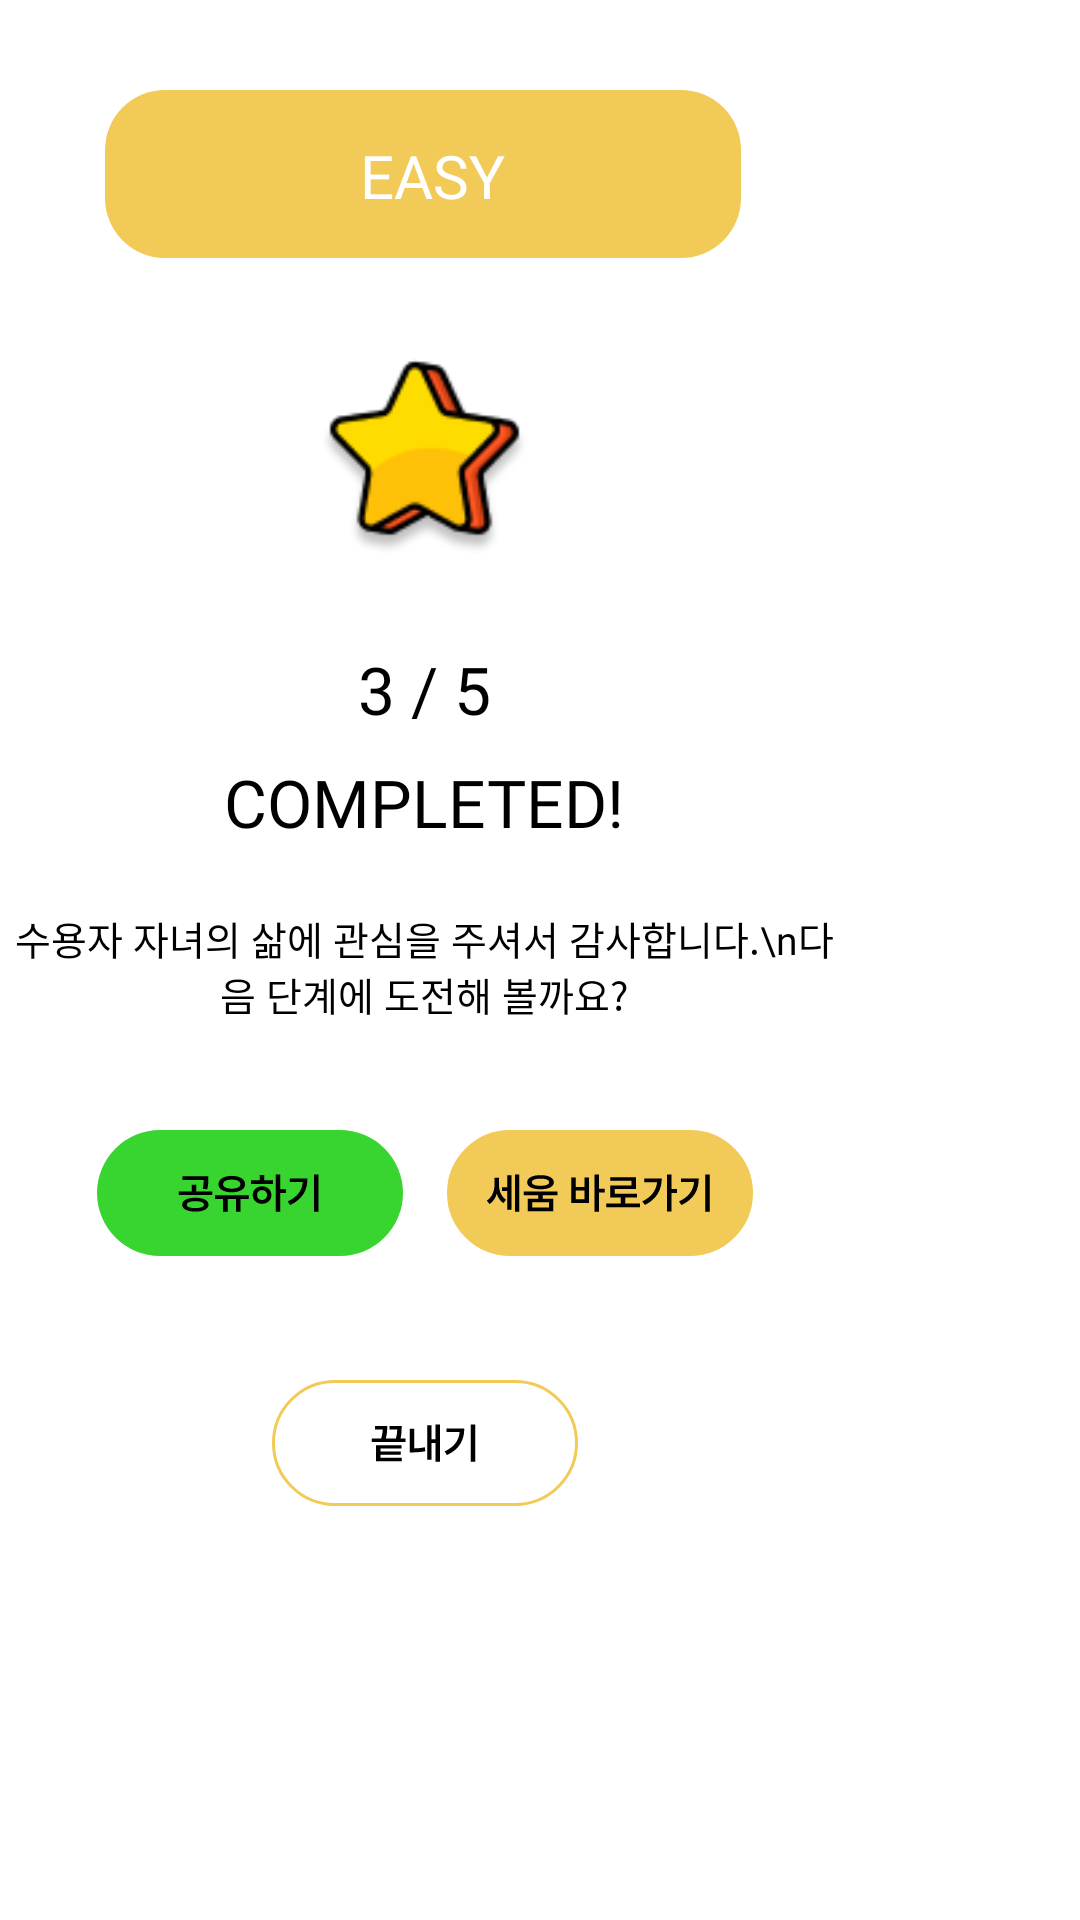

Locate icon controls on the screen. Image size 1080×1920, boxes as (x1, y1, x2, y2).
home quiz end star: (329, 361, 520, 546)
